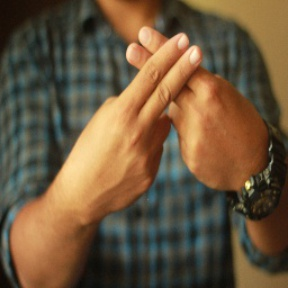F: (105, 23, 236, 158)
